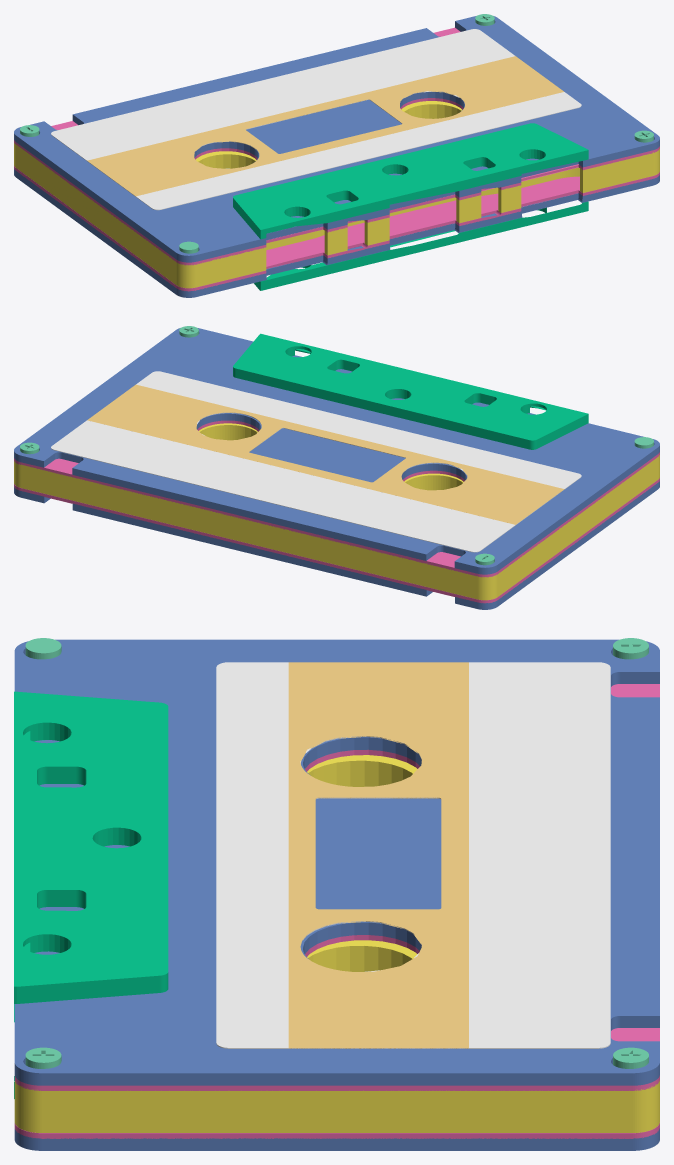
The model's file is cassette.glb.
The picture shows the model from 3 angles, top to bottom: view 1: azimuth 30°, elevation 25°; view 2: azimuth 150°, elevation 25°; view 3: azimuth 270°, elevation 25°; orthographic projection. The views are drawn at different scales.
Parts seen in each view (by area): view 1: Path_&_Rectangle_&_Rectangle_&_Rectangle_&_Rectangle_&_Recta (×7), Path (×4), Path_-_Stroke; view 2: Path_&_Rectangle_&_Rectangle_&_Rectangle_&_Rectangle_&_Recta (×6), Path (×4); view 3: Path_&_Rectangle_&_Rectangle_&_Rectangle_&_Rectangle_&_Recta (×6), Path (×4).
Part boxes in pixels (<box>): Path_&_Rectangle_&_Rectangle_&_Rectangle_&_Rectangle_&_Recta (×7): <box>14,16,659,297</box>; Path (×4): <box>51,29,581,210</box>; Path_-_Stroke: <box>266,167,579,249</box>; Path_&_Rectangle_&_Rectangle_&_Rectangle_&_Rectangle_&_Recta (×6): <box>14,328,659,609</box>; Path (×4): <box>51,371,581,552</box>; Path_&_Rectangle_&_Rectangle_&_Rectangle_&_Rectangle_&_Recta (×6): <box>14,639,659,1150</box>; Path (×4): <box>216,662,610,1048</box>.
Size of the model in its own units: 96.8 by 11.7 by 60.97.
